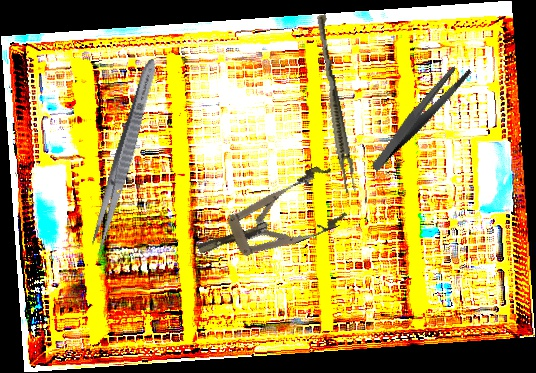Dressing Forceps: (351, 60, 489, 172), (86, 56, 162, 257)
Speculum: (186, 161, 352, 279)
Tissue Forceps: (309, 14, 361, 194)
